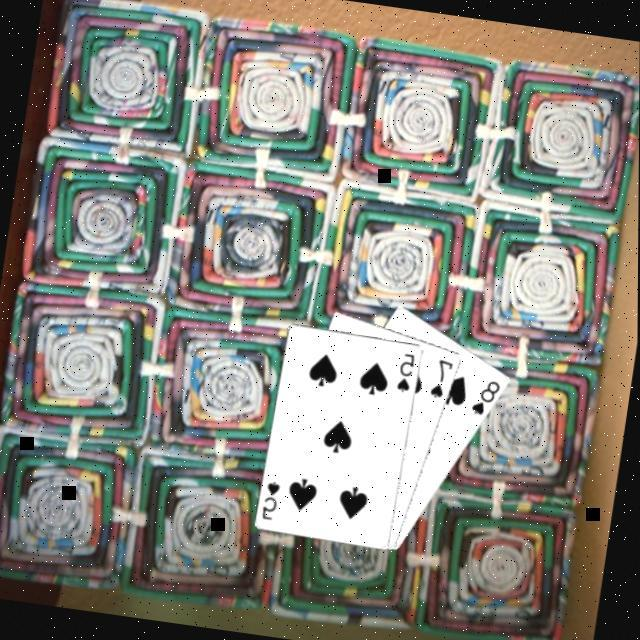5S: (394, 352, 420, 398), (260, 478, 286, 524)
7S: (428, 356, 459, 404)
8S: (468, 377, 506, 422)
